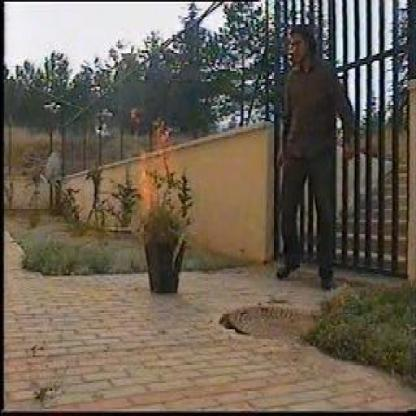foggia-v2-map80-epoch100 - v1 4323: (136, 153, 180, 209)
